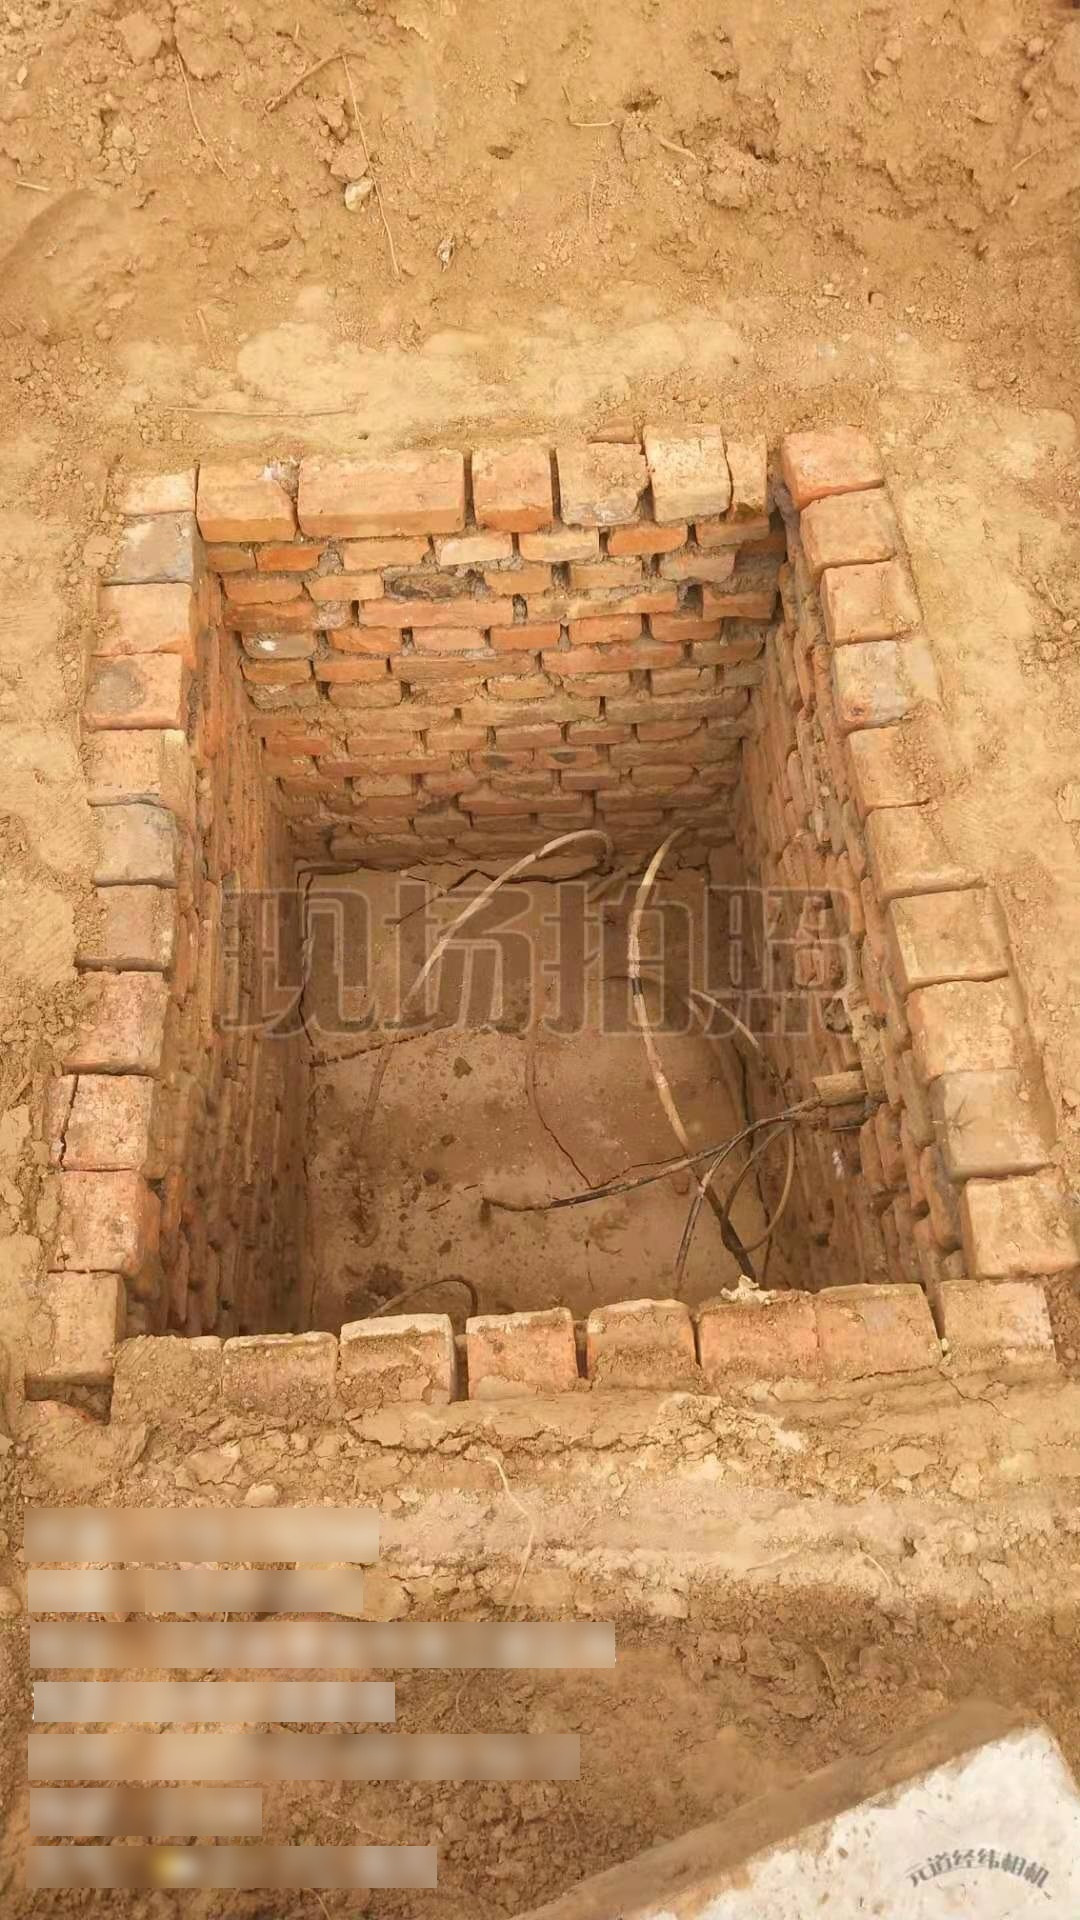lose: (104, 502, 981, 1342)
